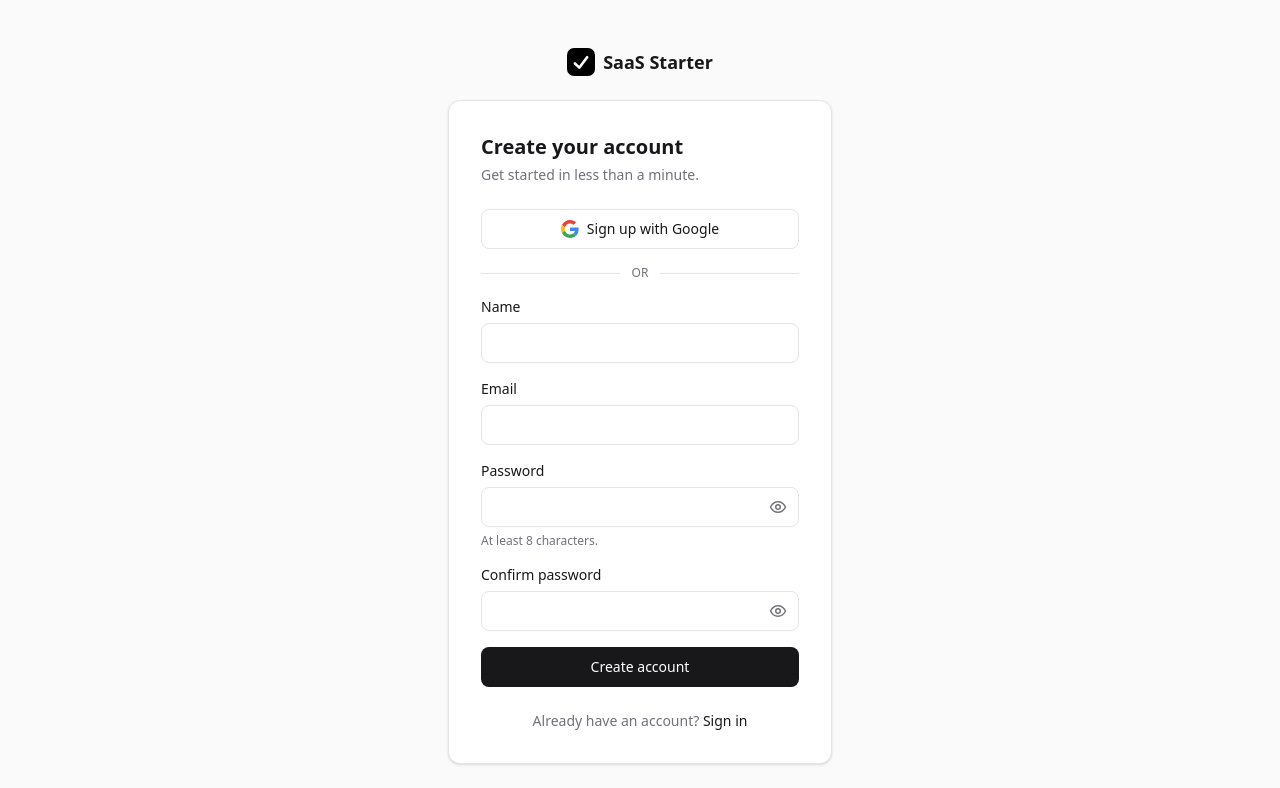
Test: Signup page › creates an account and lands on the dashboard
Expected: the heading "Create your account" is shown, [481, 133, 683, 160]
Step 1. Type "Ada Lovelace" into the field labelled "Name" → (640, 343), box [481, 323, 799, 363]
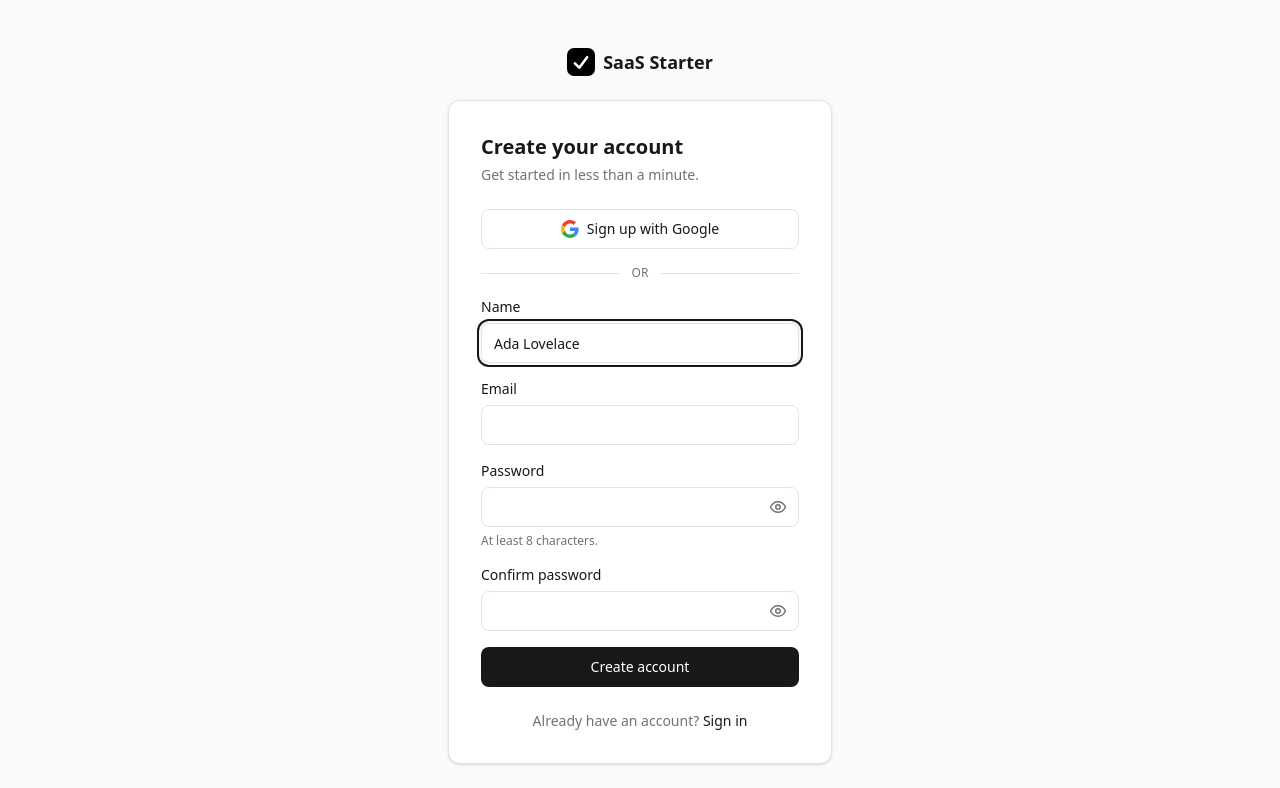
Step 2. Type "ada@example.com" into the field labelled "Email" → (640, 425), box [481, 405, 799, 445]
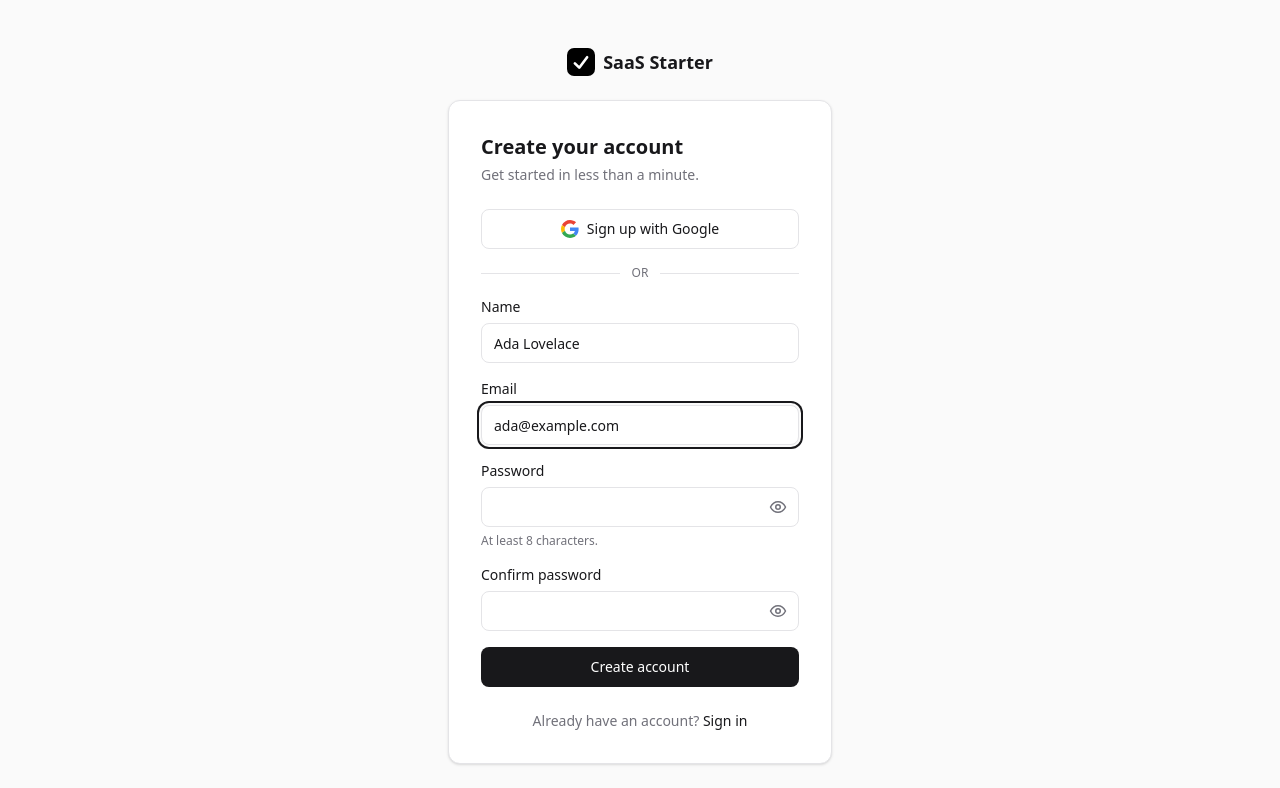
Step 3. Type "a-strong-password" into the password field labelled "Password" → (640, 507), box [481, 487, 799, 527]
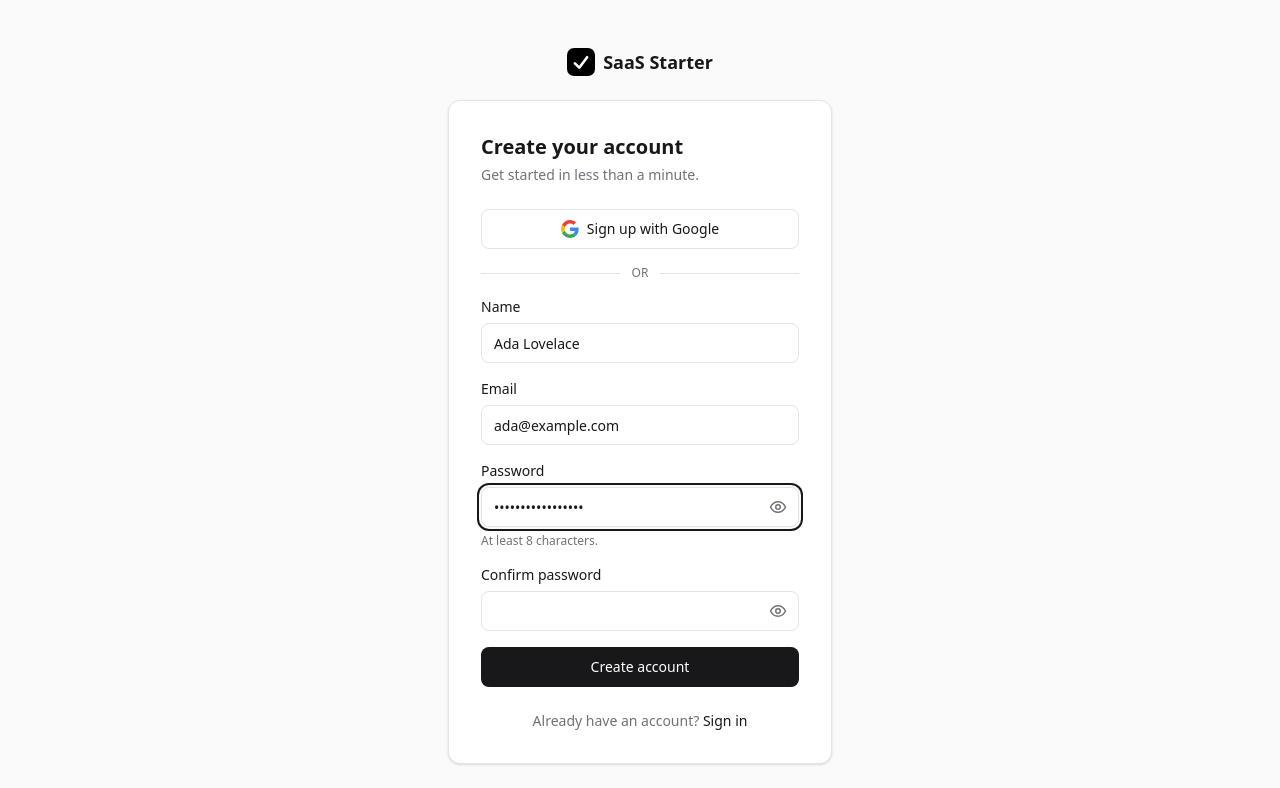
Step 4. Type "a-strong-password" into the password field labelled "Confirm password" → (640, 611), box [481, 591, 799, 631]
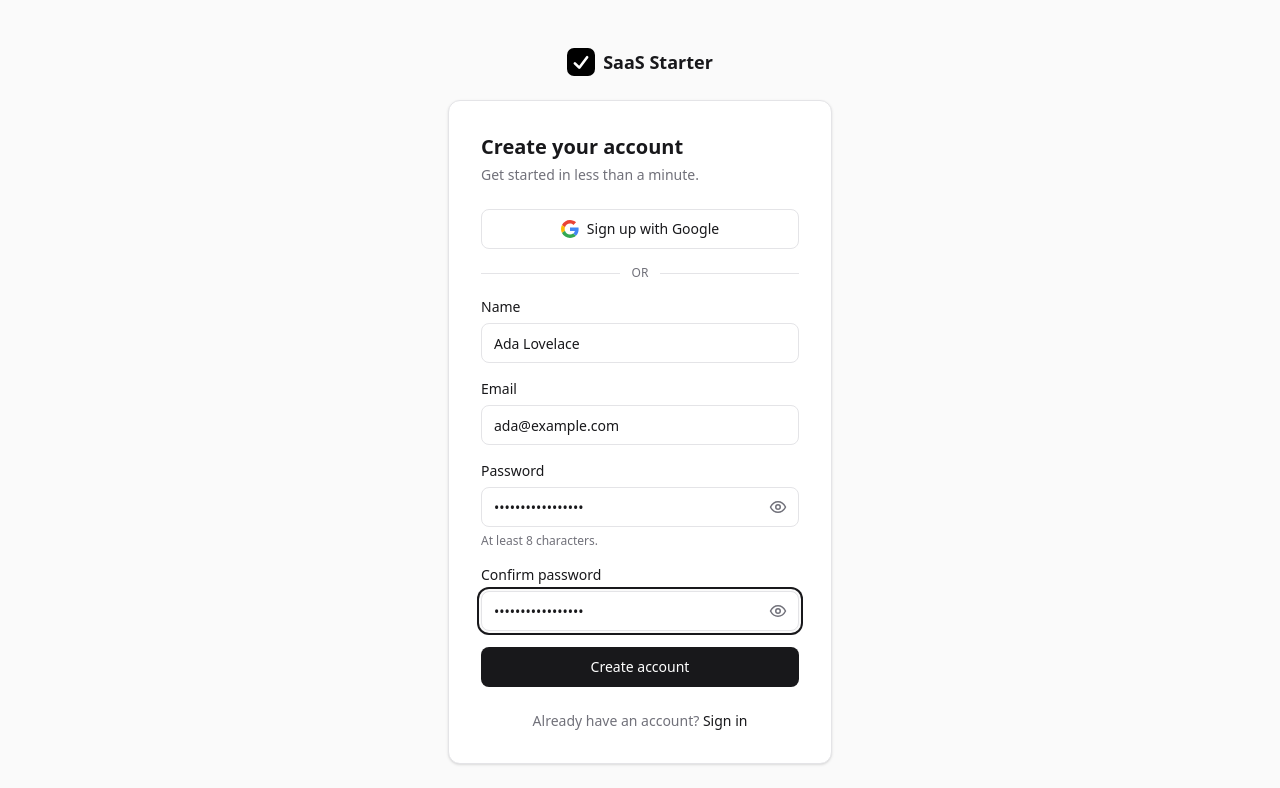
Step 5. Click the button "Create account" → (640, 667), box [481, 647, 799, 687]
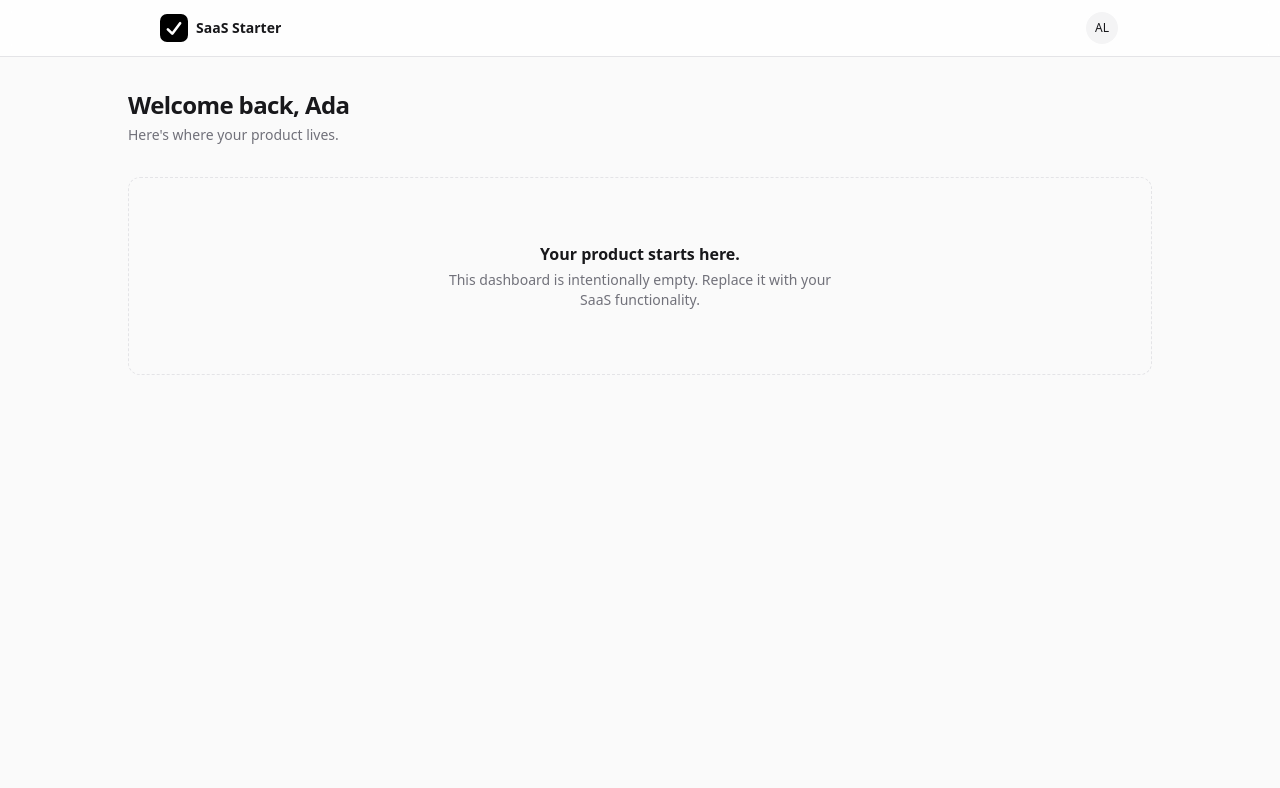
Expected: the heading "Welcome back, Ada" is shown, [128, 88, 350, 121]
